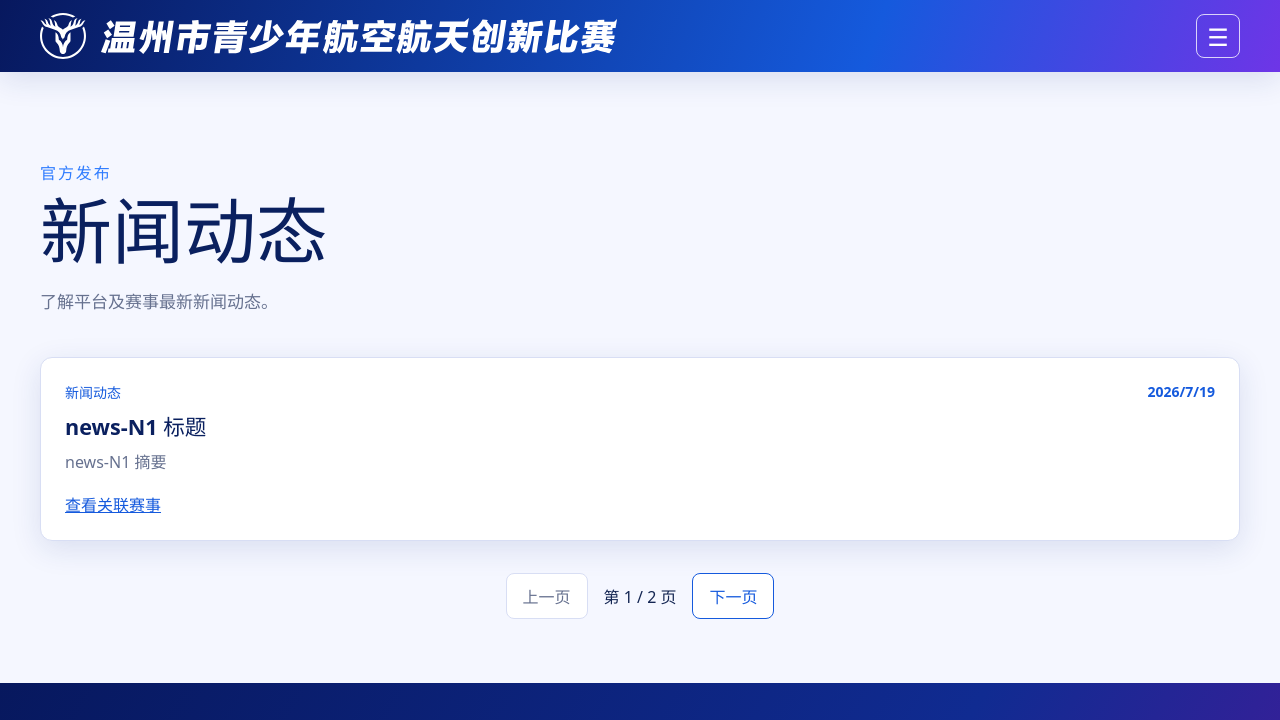
Scenario: public content lists › normalizes a legacy work URL to news while preserving event and pagination
This screenshot has width=1280, height=720.
Expected: the link "news-N1 标题" is shown, 65,412 -> 206,440
Step 1. Click the button "下一页" → (734, 596), box 692,573 -> 774,619
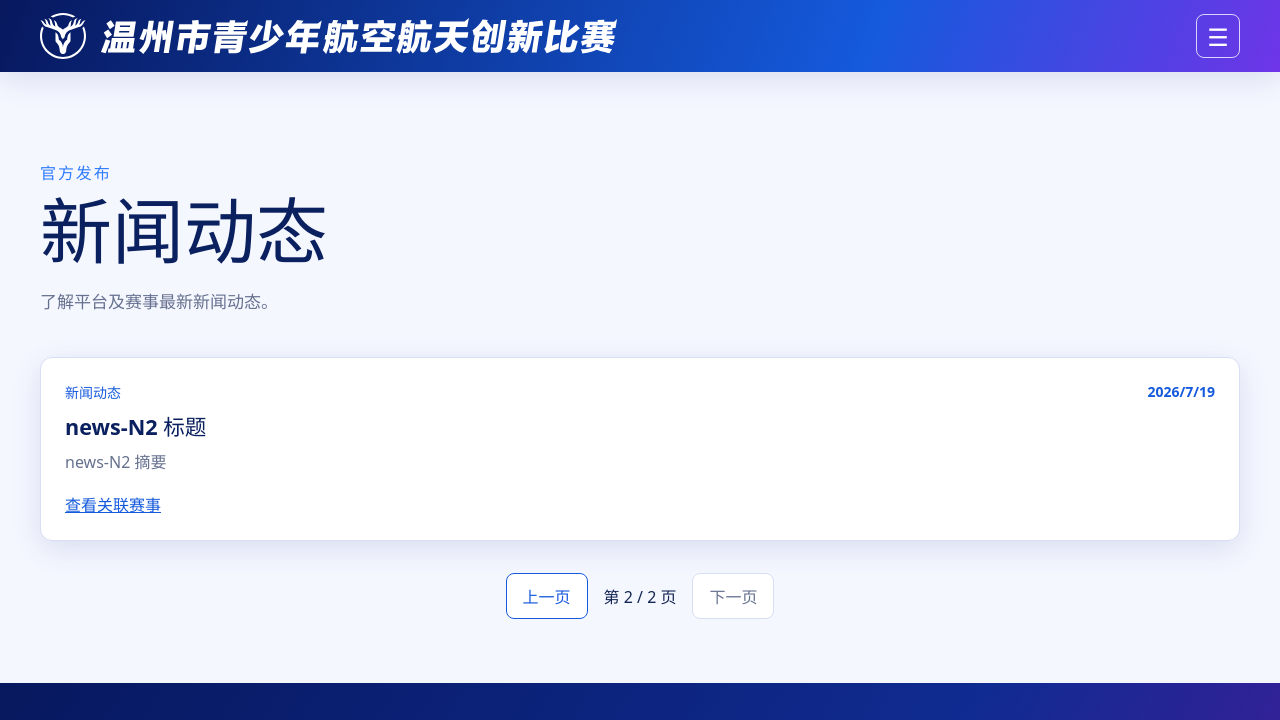
Expected: the link "news-N2 标题" is shown, 65,412 -> 206,440
